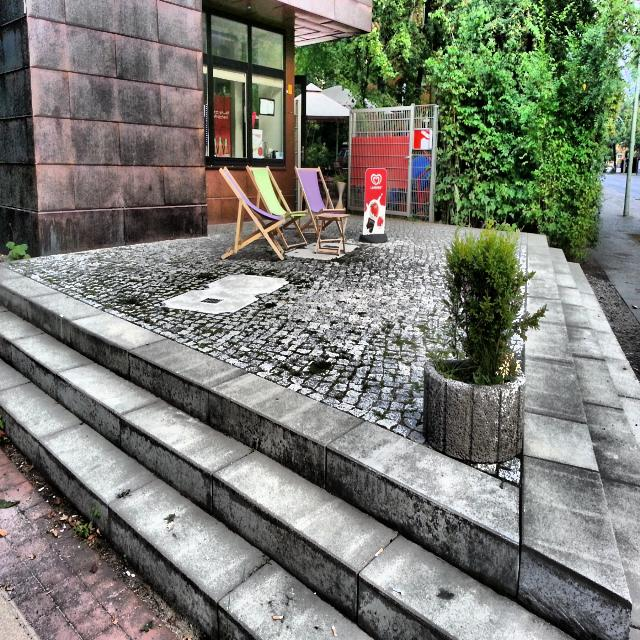escada: (0, 262, 539, 640), (542, 238, 640, 640)
